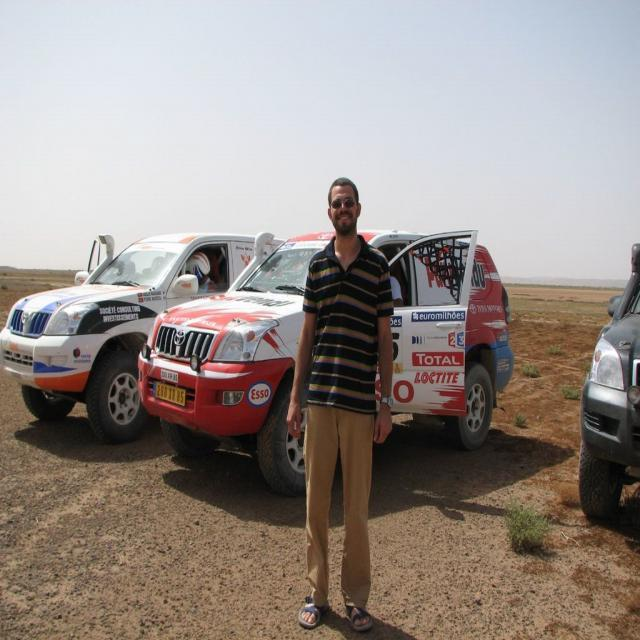person: (281, 166, 398, 638)
